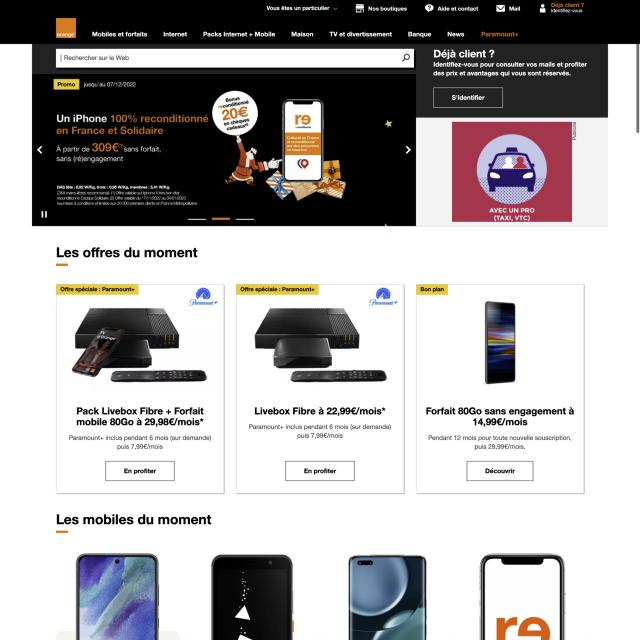input: (55, 48, 415, 68)
logo: (54, 17, 76, 40)
navigation: (90, 29, 522, 38)
